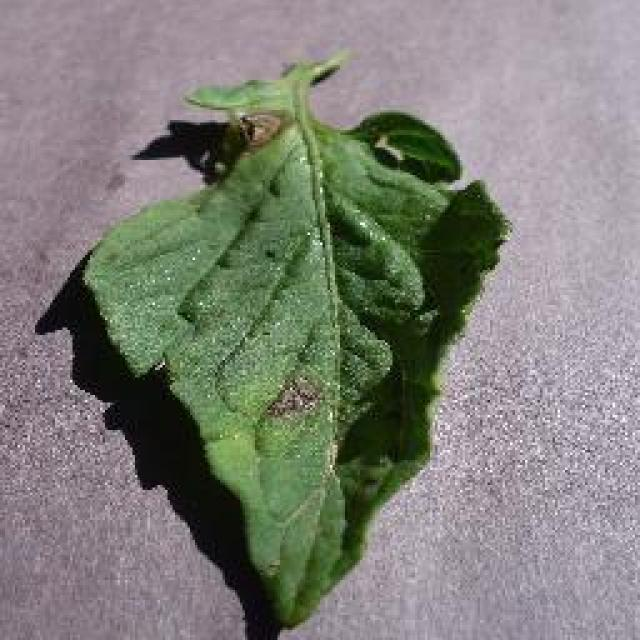Tomato Early blight leaf: (102, 49, 472, 609)
